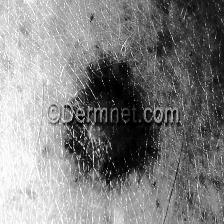Benign Marking or Mole: (67, 84, 147, 176)
